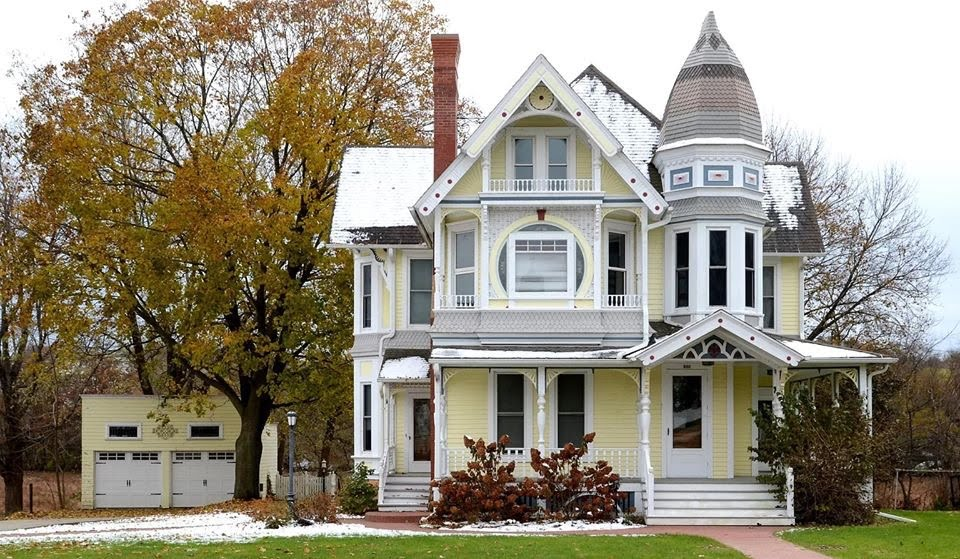Building House: (333, 23, 884, 530), (75, 362, 284, 530)
